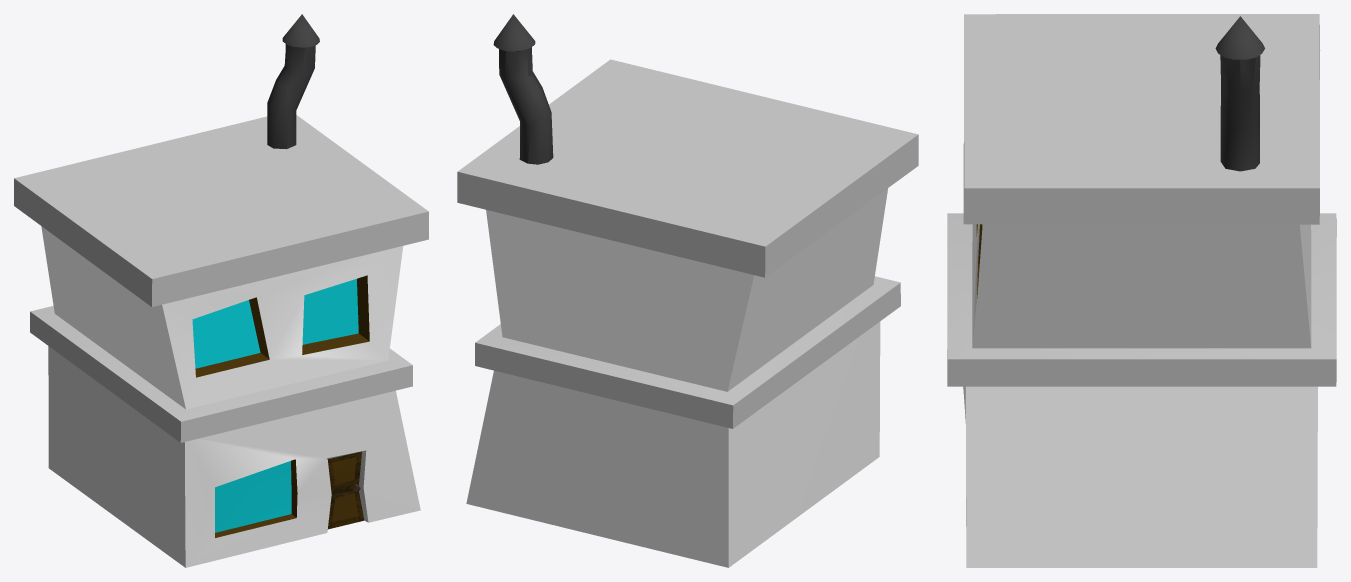
File: PredioPequeno-BrancoLOD1.fbx
3 renders of one model, left to right at view 1: azimuth 30°, elevation 25°; view 2: azimuth 150°, elevation 25°; view 3: azimuth 270°, elevation 25°, orthographic. The views are drawn at different scales.
Parts seen in each view (by area): view 1: Predio2AndaresLOD1; view 2: Predio2AndaresLOD1; view 3: Predio2AndaresLOD1.
Part boxes in pixels (x1,y1,x2,y2): Predio2AndaresLOD1: [14, 14, 428, 567]; Predio2AndaresLOD1: [457, 14, 918, 567]; Predio2AndaresLOD1: [947, 14, 1336, 567].
Size of the model in its own units: 712 by 1035 by 672.
